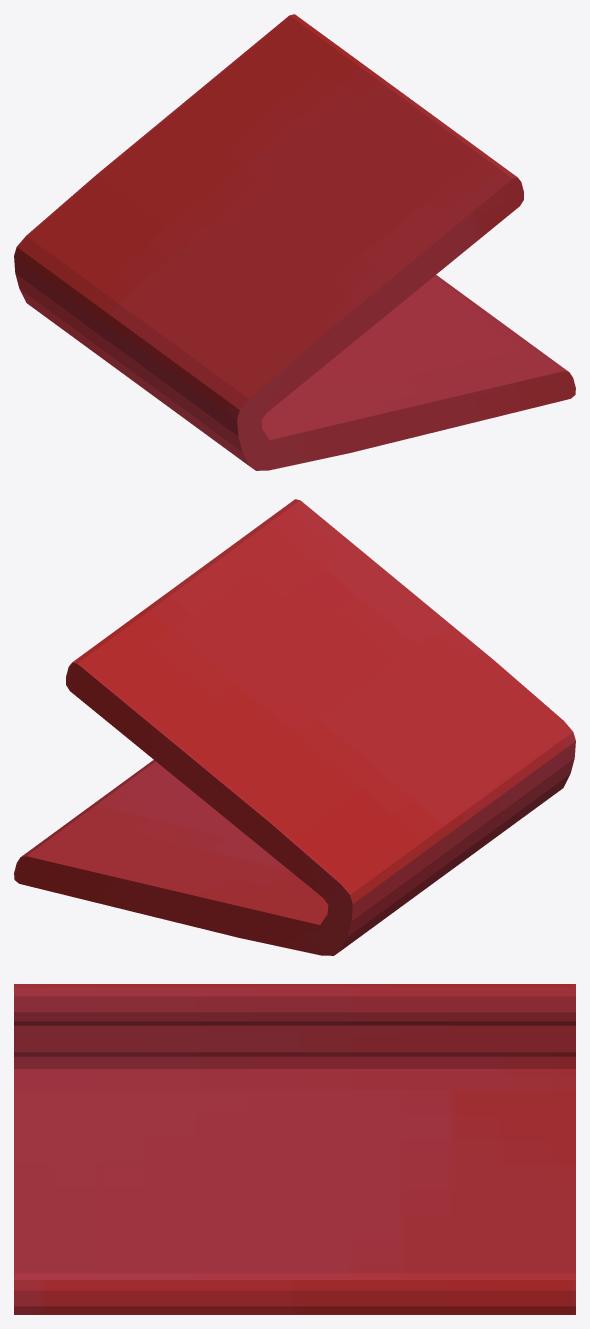
Rendered from HCBookcover.fbx.
The picture shows the model from 3 angles, top to bottom: view 1: azimuth 30°, elevation 25°; view 2: azimuth 150°, elevation 25°; view 3: azimuth 270°, elevation 25°; orthographic projection. The views are drawn at different scales.
Visible parts, largest first — view 1: Cube.236; view 2: Cube.236; view 3: Cube.236.
Boxes of the visible parts, bbox=[...] form: Cube.236: bbox=[14, 14, 575, 470]; Cube.236: bbox=[14, 499, 575, 955]; Cube.236: bbox=[14, 984, 575, 1314].
Bounding box in the file's own units: 0.1748 × 0.1157 × 0.1994.
